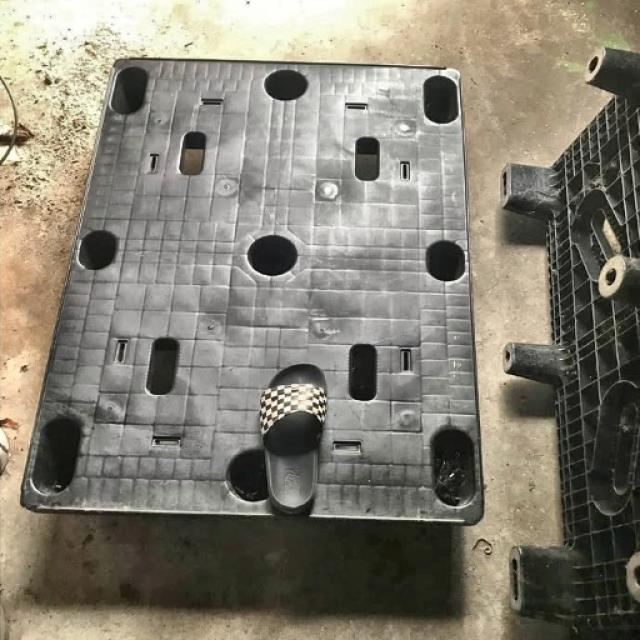non-igps: (13, 51, 491, 533), (494, 38, 640, 640)
